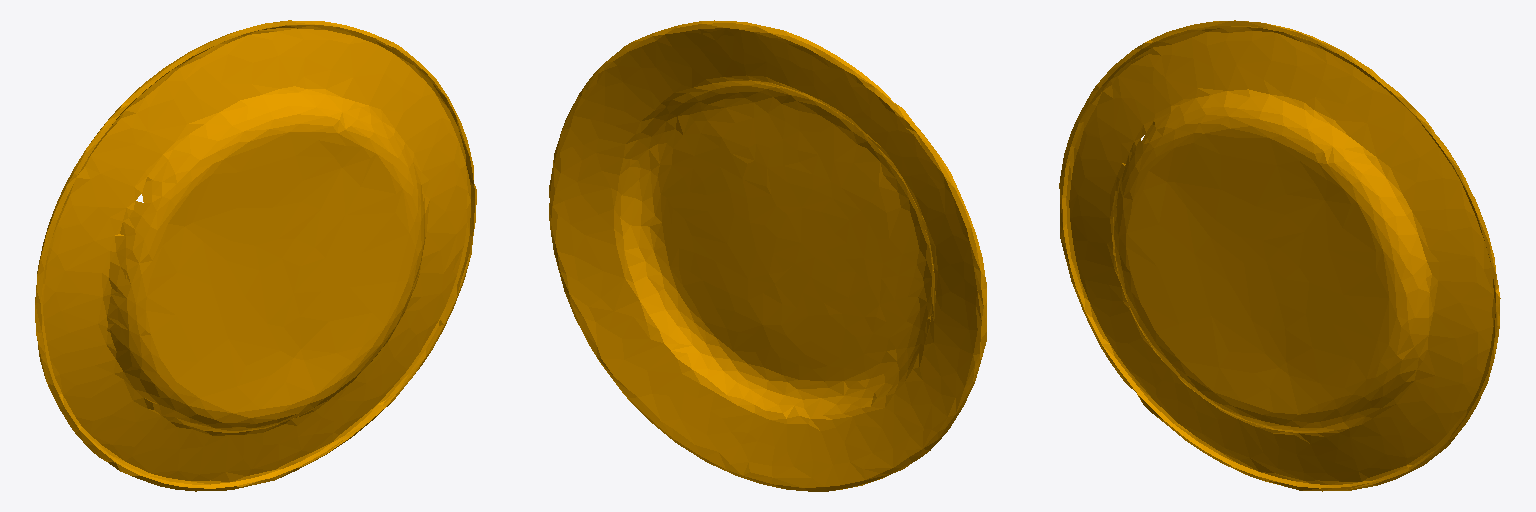
The robot description file, URDF, robot "indenter":
<robot name="indenter">
	<!-- <link name="world">
        </link> -->

        <!-- <joint name="world_to_indenter" type="prismatic">
                <parent link="world"/>
                <child link="indenter"/>
                <origin rpy="0.0 0.0 0.0" xyz="0.0 0.0 0.0"/>
                <axis xyz="0 1 0"/>
                <dynamics damping="0.0" friction="0.0"/>
                <limit lower="0.0" upper="0.1" velocity="1e9" effort="1e9"/>
        </joint> -->

	<link name="indenter">
		<visual>
			<origin rpy="0.0 0.0 0.0" xyz="0.0 0.0 0.0"/>
			<geometry>
				<mesh filename="../../meshes/target_objects/plate_ycb.obj"/>
			</geometry>
		</visual>
		<collision>
			<origin rpy="0.0 0.0 0.0" xyz="0.0 0.0 0.0"/>
			<geometry>
				<mesh filename="../../meshes/target_objects/plate_ycb.obj"/>
			</geometry>
		</collision>
		<inertial>
			<origin rpy="0.0 0.0 0.0" xyz="0.0 -8.64389e-3 0.0"/>
			<mass value="0.00224114"/>
			<inertia ixx="6.25553e-8" iyy="4.07645e-8" izz="6.25353e-8" ixy="0.0" ixz="4.69820e-15" iyz="0.0"/>
		</inertial>
	</link>
</robot>

--- Facts derived from the render (not from the file) ---
Views: 3 orthographic renders of the robot side by side, from view 1: azimuth 30°, elevation 25°; view 2: azimuth 150°, elevation 25°; view 3: azimuth 330°, elevation 25°.
Model indenter with 1 links and 0 joints (none), rooted at indenter, posed all joints at 0.
Visible links, largest first — view 1: indenter; view 2: indenter; view 3: indenter.
Boxes of the visible links, <box> form: indenter: <box>35,20,476,491</box>; indenter: <box>549,20,986,491</box>; indenter: <box>1059,20,1500,491</box>.
Size in the robot's own frame: 0.2613 by 0.0267 by 0.2598 metres.
1 mesh visuals loaded from 1 distinct referenced files (1 OBJ).